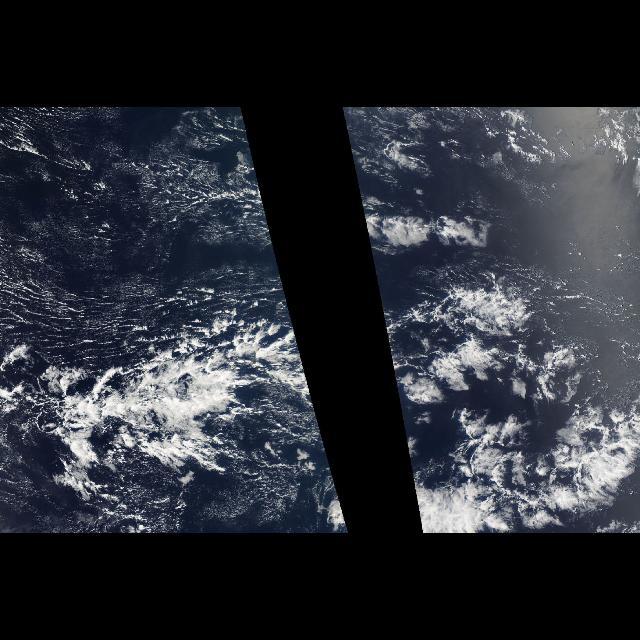Fish: (2, 234, 350, 534), (366, 234, 640, 534)
Sugar: (0, 107, 288, 365)
